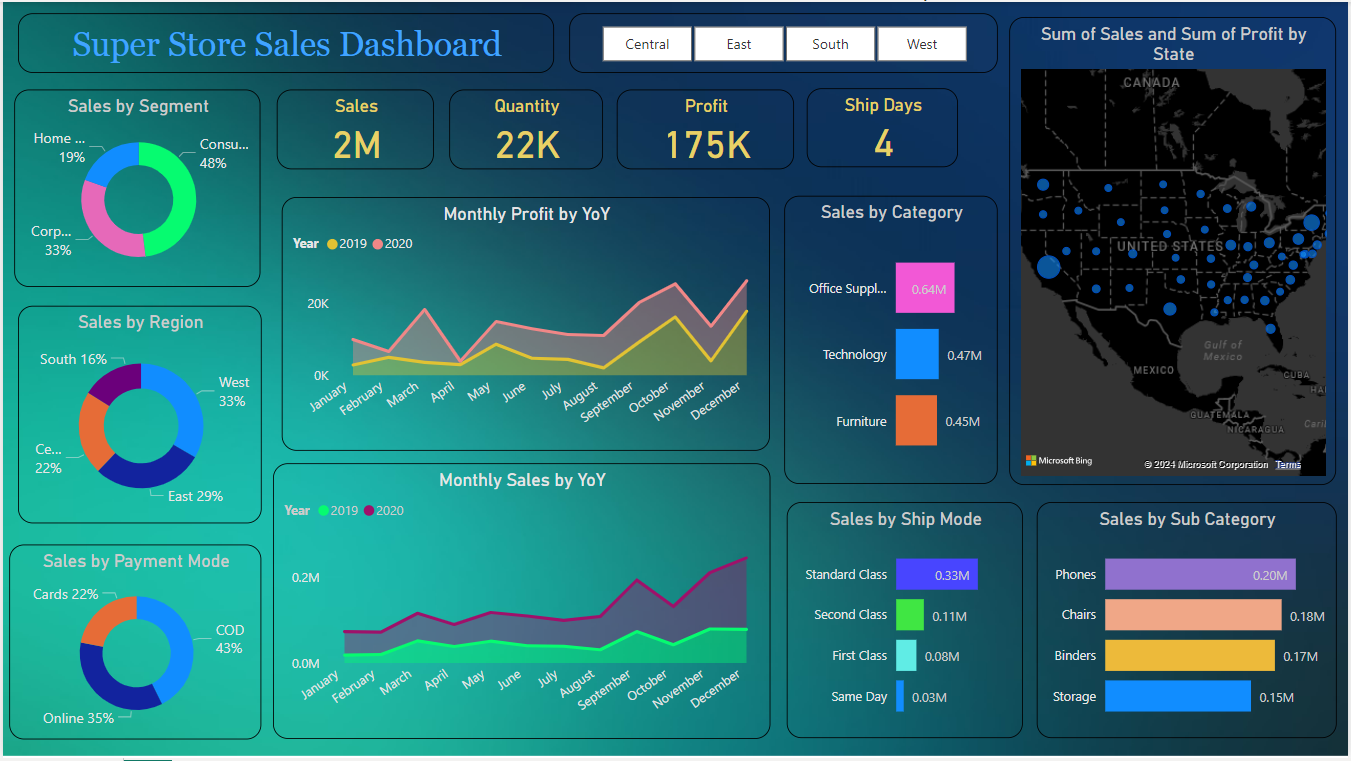

What the dashboard file says about the page in this screenshot:
{"tool":"powerbi","page":{"name":"Dashboard","canvas":[1280,720],"ordinal":0},"visuals":[{"type":"clusteredBarChart","title":"Sales by Category","fields":{"Y":["Sum(SuperStore_Sales_Dataset.Sales)"],"Category":["SuperStore_Sales_Dataset.Category"]},"box":[743.7,183.9,203.1,274.4],"z":0},{"type":"clusteredBarChart","title":"Sales by Sub Category","fields":{"Y":["Sum(SuperStore_Sales_Dataset.Sales)"],"Category":["SuperStore_Sales_Dataset.Sub-Category"]},"box":[983.9,476.2,285.4,225],"z":1000},{"type":"clusteredBarChart","title":"Sales by Ship Mode","fields":{"Y":["Sum(SuperStore_Sales_Dataset.Sales)"],"Category":["SuperStore_Sales_Dataset.Ship Mode"]},"box":[746.5,476.2,225,225],"z":2000},{"type":"stackedAreaChart","title":"Monthly Sales by YoY","fields":{"Y":["Sum(SuperStore_Sales_Dataset.Sales)"],"Category":["SuperStore_Sales_Dataset.Order Date.Variation.Date Hierarchy.Month","SuperStore_Sales_Dataset.Order Date.Variation.Date Hierarchy.Day"],"Series":["SuperStore_Sales_Dataset.Order Date.Variation.Date Hierarchy.Year"]},"box":[256.6,439.1,473.4,262.1],"z":3000},{"type":"stackedAreaChart","title":"Monthly Profit by YoY","fields":{"Category":["SuperStore_Sales_Dataset.Order Date.Variation.Date Hierarchy.Month","SuperStore_Sales_Dataset.Order Date.Variation.Date Hierarchy.Day"],"Series":["SuperStore_Sales_Dataset.Order Date.Variation.Date Hierarchy.Year"],"Y":["Sum(SuperStore_Sales_Dataset.Profit)"]},"box":[264.8,185.2,465.2,241.5],"z":4000},{"type":"map","fields":{"Category":["SuperStore_Sales_Dataset.State"],"Size":["Sum(SuperStore_Sales_Dataset.Sales)"]},"box":[957.8,13.7,311.5,446],"z":5000},{"type":"donutChart","title":" Sales by Segment","fields":{"Category":["SuperStore_Sales_Dataset.Segment"],"Y":["Sum(SuperStore_Sales_Dataset.Sales)"]},"box":[11,83.7,234.6,188],"z":6000},{"type":"donutChart","title":" Sales by Payment Mode","fields":{"Category":["SuperStore_Sales_Dataset.Payment Mode"],"Y":["Sum(SuperStore_Sales_Dataset.Sales)"]},"box":[5.5,516,240.1,185.2],"z":7000},{"type":"slicer","fields":{"Values":["SuperStore_Sales_Dataset.Region"]},"box":[539.1,10.7,408.2,57.1],"z":8000},{"type":"card","title":"Sales","fields":{"Values":["Sum(SuperStore_Sales_Dataset.Sales)"]},"box":[260.6,83.3,150,76.2],"z":9000},{"type":"card","title":"Quantity","fields":{"Values":["Sum(SuperStore_Sales_Dataset.Quantity)"]},"box":[424.9,83.3,146.4,76.2],"z":10000},{"type":"card","title":"Profit","fields":{"Values":["Sum(SuperStore_Sales_Dataset.Profit)"]},"box":[584.3,83.3,169,76.2],"z":11000},{"type":"card","title":"Ship Days","fields":{"Values":["Avg(SuperStore_Sales_Dataset.AvgDelivery)"]},"box":[765.7,82.3,144.1,75.5],"z":12000},{"type":"donutChart","title":" Sales by Region","fields":{"Category":["SuperStore_Sales_Dataset.Region"],"Y":["Sum(SuperStore_Sales_Dataset.Sales)"]},"box":[13.7,289.5,231.9,207.2],"z":13000},{"type":"textbox","box":[14.3,10.7,510.5,57.1],"z":14000}]}

Visuals, with their boxes in screenshot pixels (x1, y1, x2, y2), scaled from the page's 1280x720 canvas onto the 1351x761 screenshot:
"Sales by Category" clusteredBarChart: box(785, 194, 999, 484)
"Sales by Sub Category" clusteredBarChart: box(1038, 503, 1340, 741)
"Sales by Ship Mode" clusteredBarChart: box(788, 503, 1025, 741)
"Monthly Sales by YoY" stackedAreaChart: box(271, 464, 770, 741)
"Monthly Profit by YoY" stackedAreaChart: box(279, 196, 770, 451)
map - SuperStore_Sales_Dataset.State x Sum(SuperStore_Sales_Dataset.Sales): box(1011, 14, 1340, 486)
" Sales by Segment" donutChart: box(12, 88, 259, 287)
" Sales by Payment Mode" donutChart: box(6, 545, 259, 741)
slicer - SuperStore_Sales_Dataset.Region: box(569, 11, 1000, 72)
"Sales" card: box(275, 88, 433, 169)
"Quantity" card: box(448, 88, 603, 169)
"Profit" card: box(617, 88, 795, 169)
"Ship Days" card: box(808, 87, 960, 167)
" Sales by Region" donutChart: box(14, 306, 259, 525)
textbox: box(15, 11, 554, 72)
